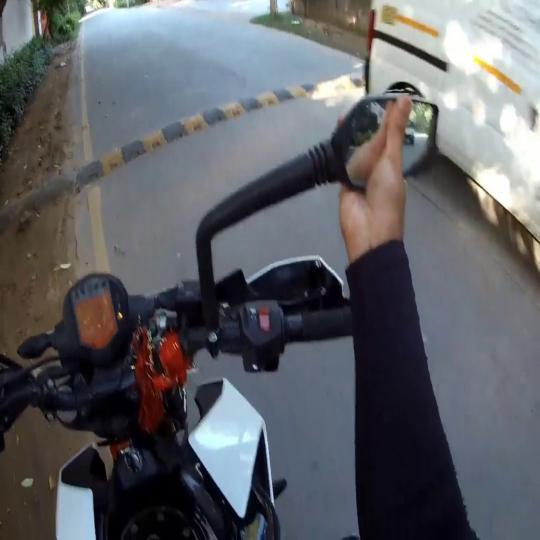Speed Bump: (79, 70, 232, 192), (232, 74, 346, 115)
